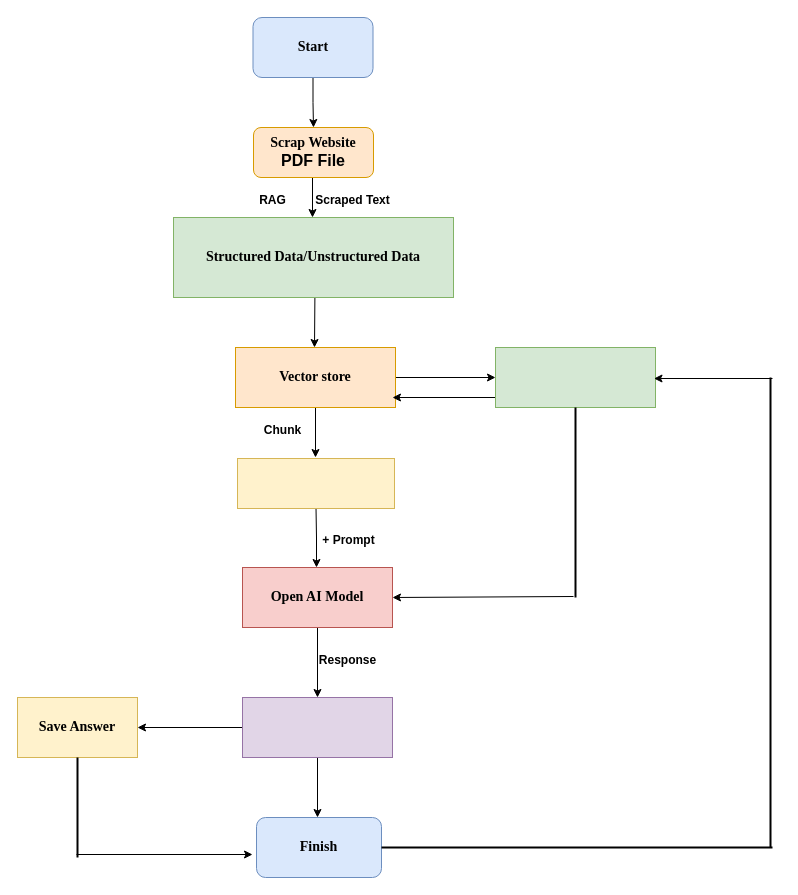
This 798x895 diagram has some shape labels left out. Here are the shapes that lost their labels. From the top down, the centre of each, then its label:
At [575,377]: "Customer Query".
At [315,483]: "Document List".
At [317,727]: "Display Answer".
